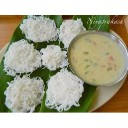idiyappam: (5, 76, 45, 113), (47, 70, 84, 109), (1, 42, 41, 71), (22, 16, 58, 42), (56, 15, 84, 41), (40, 45, 68, 68)
